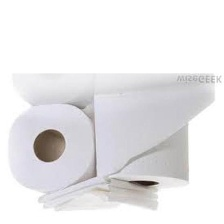tissue: (87, 75, 219, 194), (1, 99, 101, 199), (32, 171, 162, 221)
